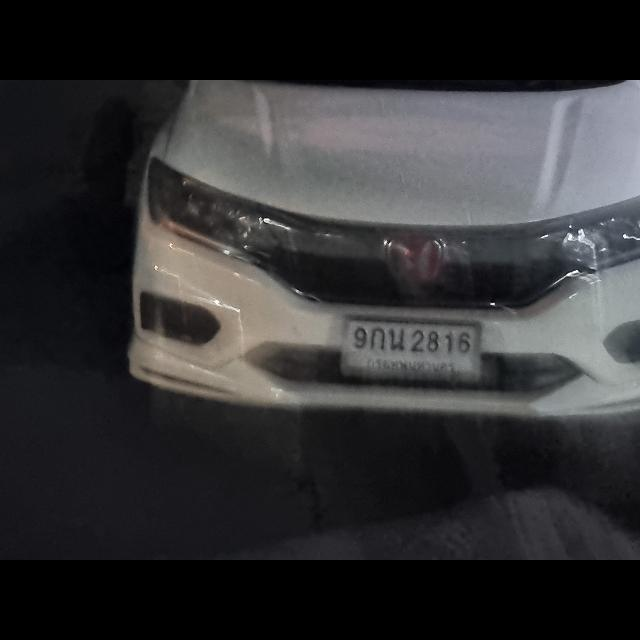licenseplate: (341, 314, 481, 382)
